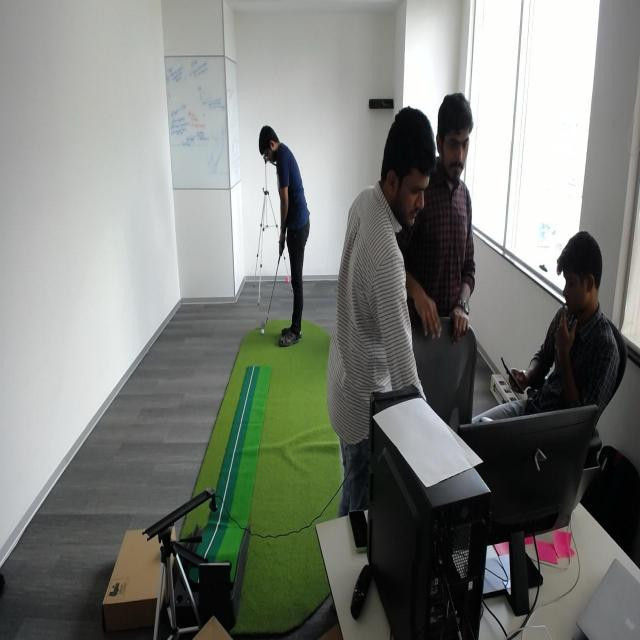GolfBall: (260, 327, 266, 337)
